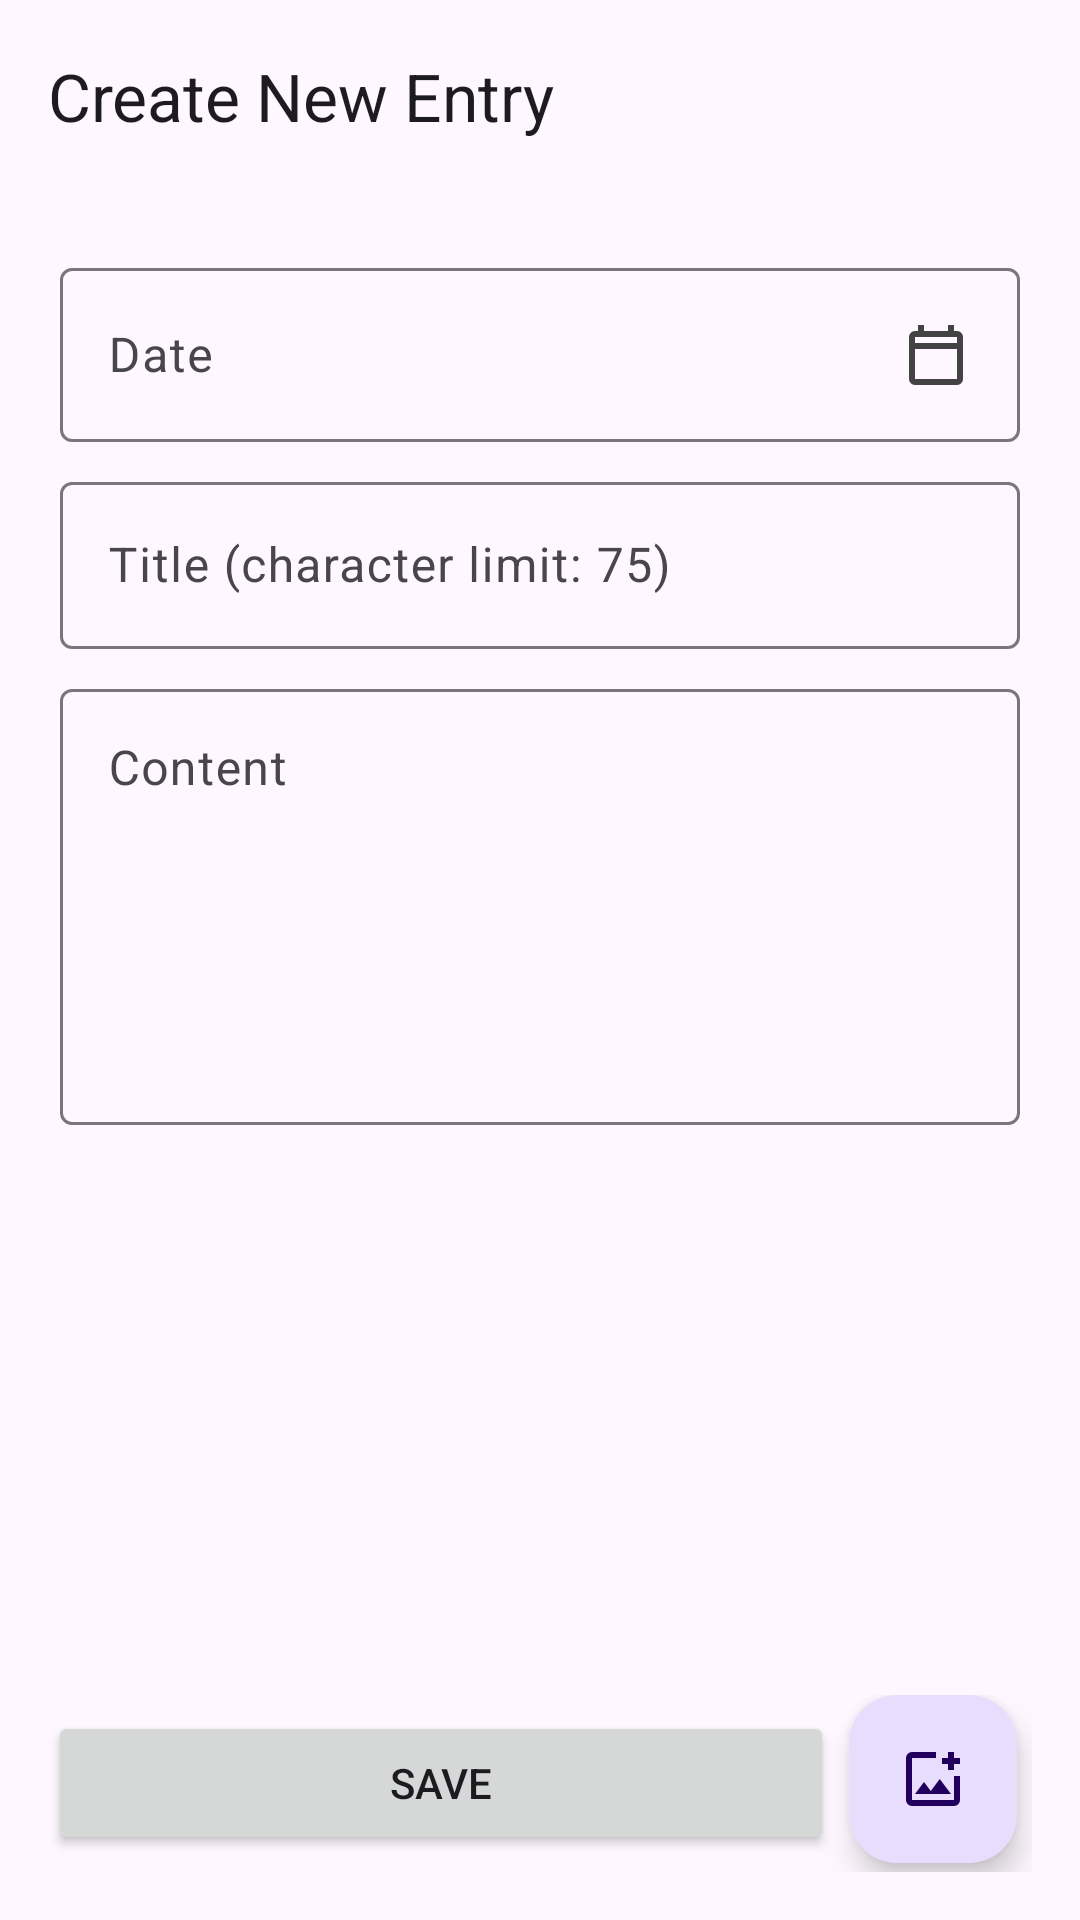

Where icons sit on this 1080x1920 app screen, as box=[x1, y1, x2, y2]:
Add images: box=[849, 1695, 1017, 1863]
